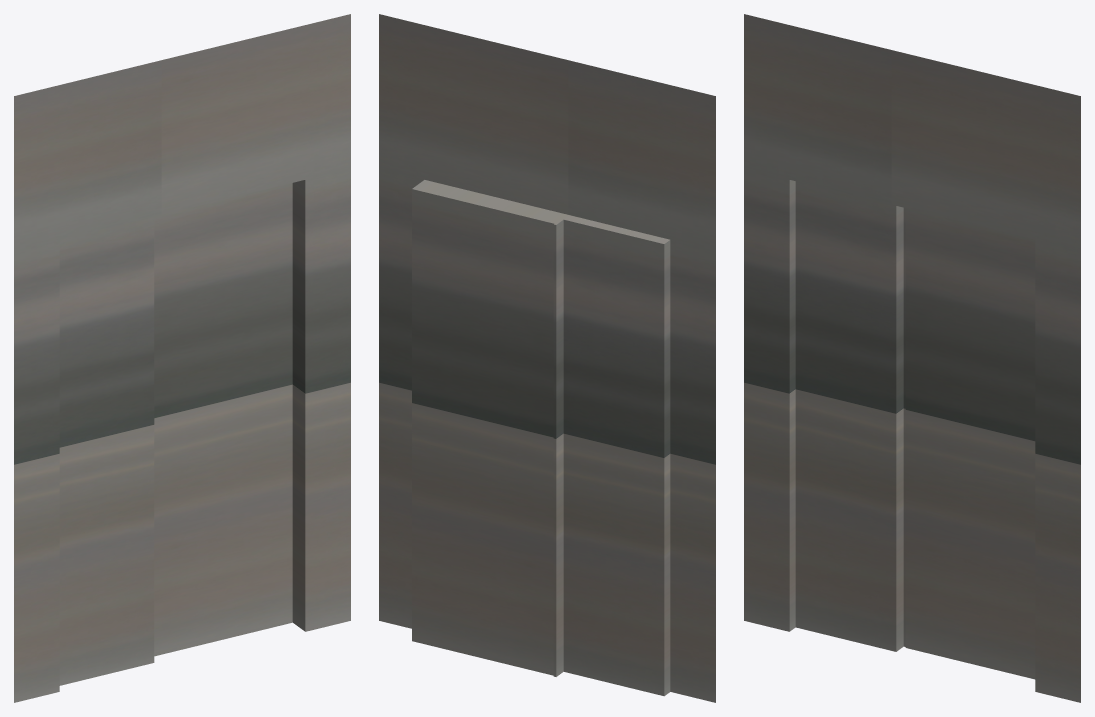
Rendered from SW_corridor__R_lobby_HissinOvi.FBX.
3 views of the same model, side by side, from view 1: azimuth 30°, elevation 25°; view 2: azimuth 150°, elevation 25°; view 3: azimuth 330°, elevation 25° (orthographic).
Parts seen in each view (by area): view 1: SW_corridor__R_lobby_HissinOvi; view 2: SW_corridor__R_lobby_HissinOvi; view 3: SW_corridor__R_lobby_HissinOvi.
Part boxes in pixels (box(x1,y1,x2,y2)): SW_corridor__R_lobby_HissinOvi: box(14, 14, 350, 702); SW_corridor__R_lobby_HissinOvi: box(379, 14, 715, 702); SW_corridor__R_lobby_HissinOvi: box(744, 14, 1080, 702).
Size of the model in its own units: 148 by 10.28 by 255.
